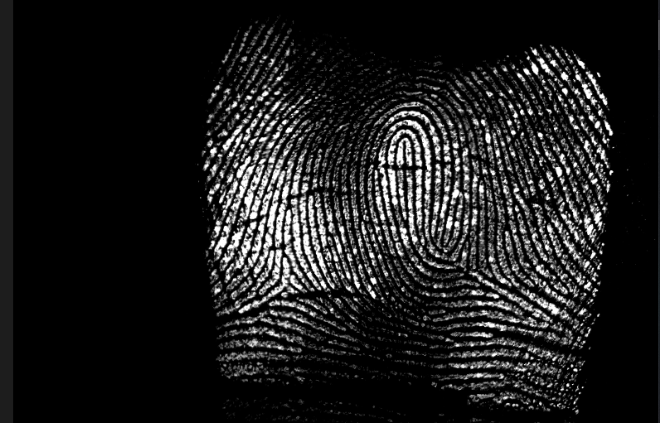deltas: (260, 260, 310, 310), (434, 243, 489, 286)
nucleo: (385, 116, 431, 182)
